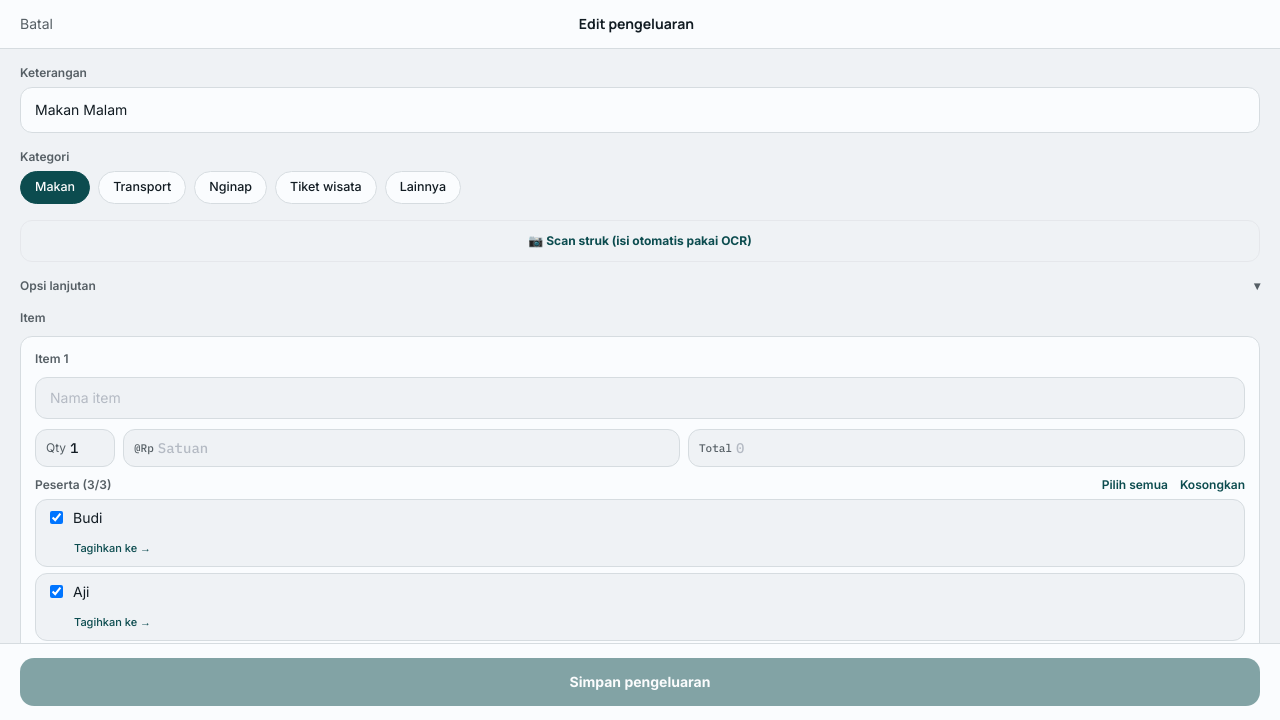
Test: AddEditSubTripSheet — split mode toggle › mode is a non-interactive indicator in edit mode
The width and height of the screenshot is (1280, 720).
Click the text "Opsi lanjutan" at (58, 286), box top-left (20, 278), bottom-right (96, 294)
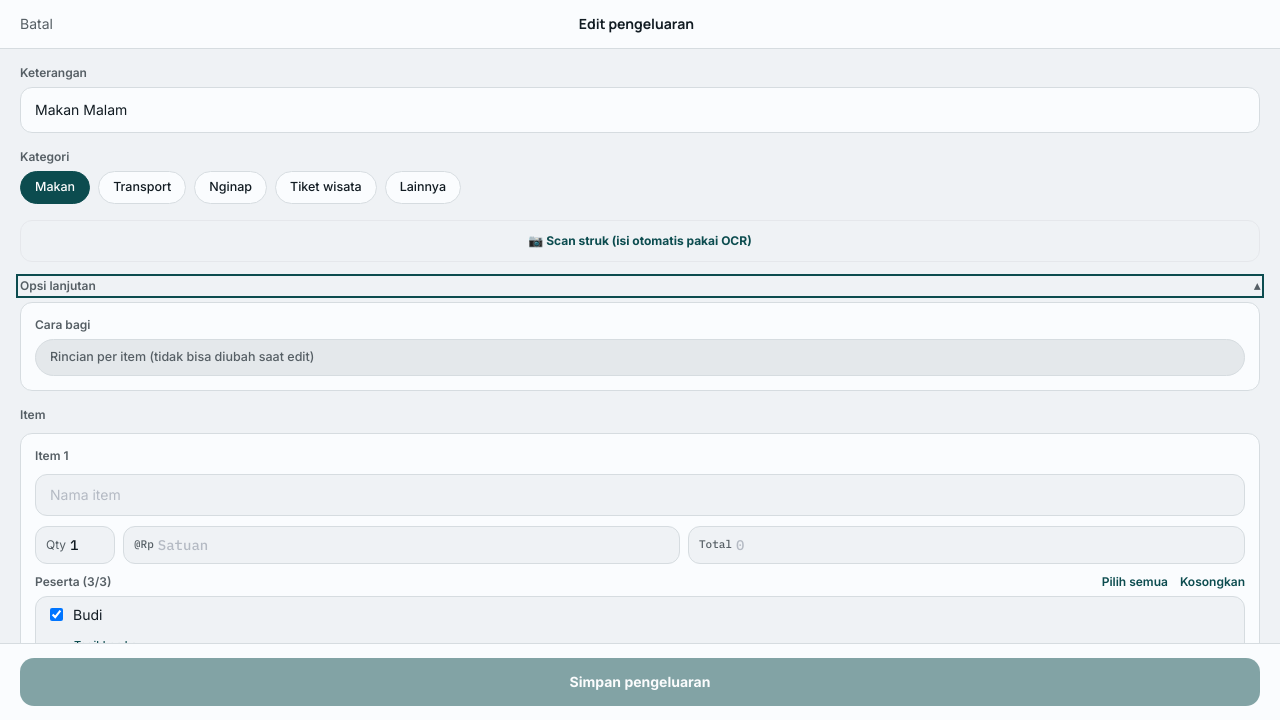
Result: the text "Rincian per item (tidak bisa diubah saat edit)" is shown at top-left (35, 339), bottom-right (1245, 376)
